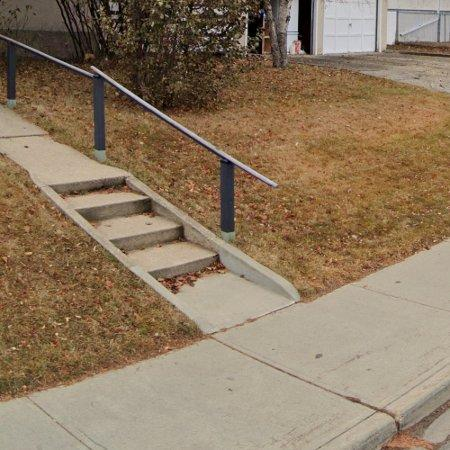stairs: (0, 105, 299, 335)
